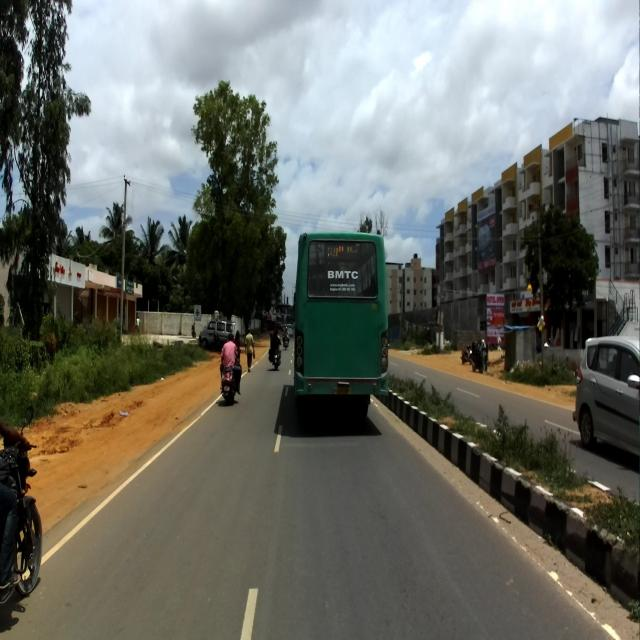Car_Maruti-Suzuki: (572, 332, 640, 464)
bus: (290, 230, 390, 430)
motorcycle_Honda: (0, 404, 44, 598)
